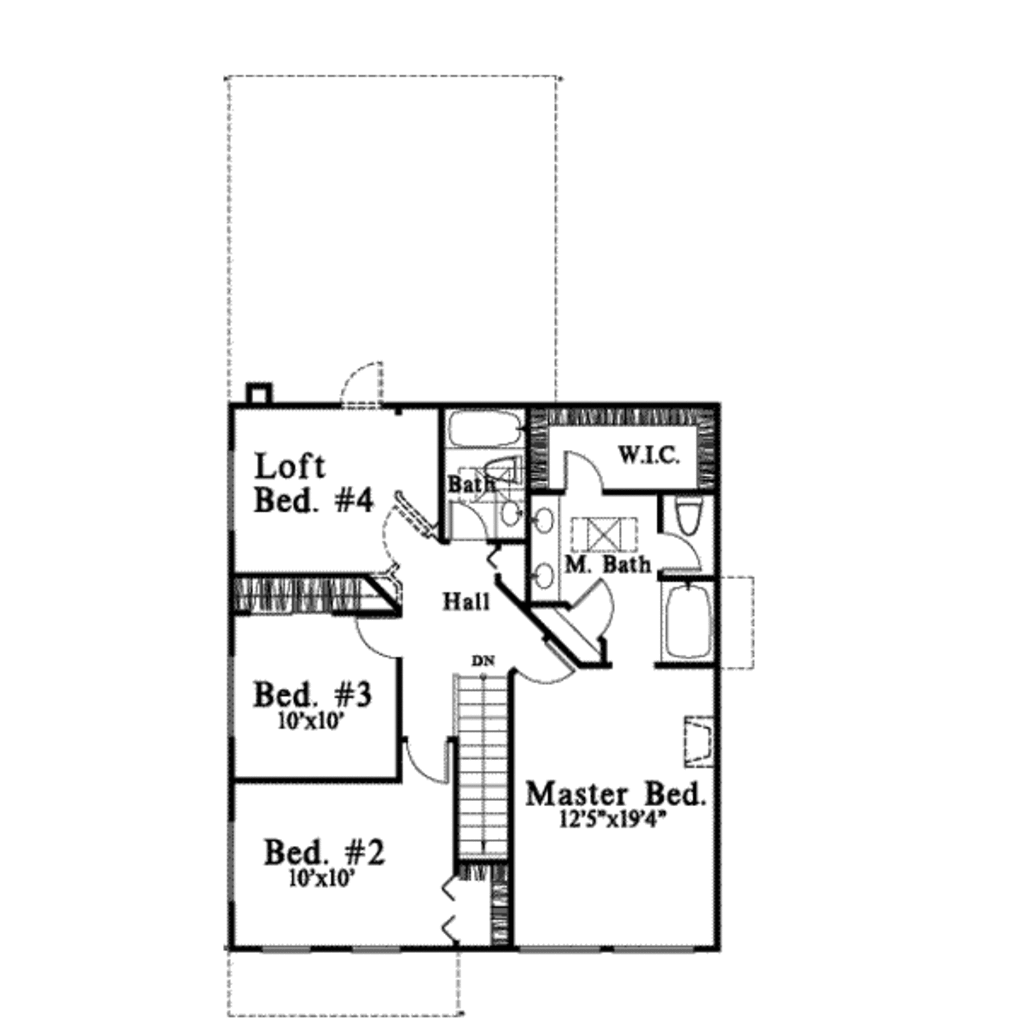door: (566, 571, 625, 644), (369, 497, 433, 563), (400, 725, 455, 794), (353, 611, 414, 672), (652, 532, 720, 580), (516, 638, 578, 688), (541, 447, 608, 492), (447, 503, 500, 546)
large_sink: (472, 452, 530, 492), (666, 492, 711, 536)
small_sink: (533, 499, 567, 600), (494, 497, 528, 544)
stairs: (453, 666, 519, 864)
tub: (430, 399, 534, 455), (659, 578, 725, 664)
window: (511, 941, 602, 957), (348, 938, 395, 958), (267, 939, 317, 955), (617, 944, 688, 953)
